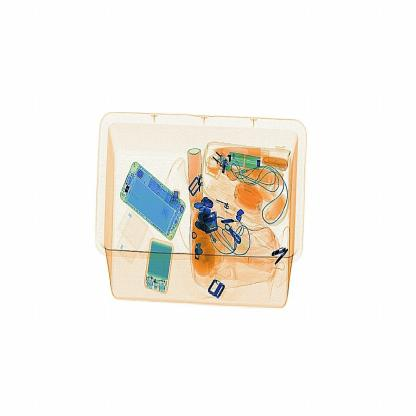pliers: (167, 175, 184, 218)
